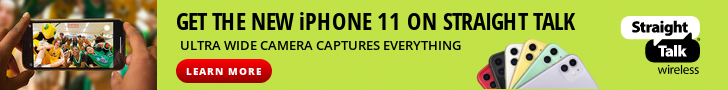fake_button: (179, 48, 282, 88)
